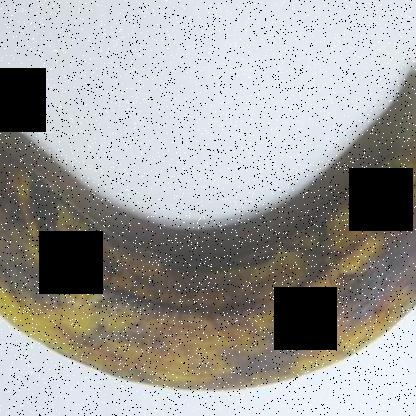rotten: (1, 97, 415, 404)
